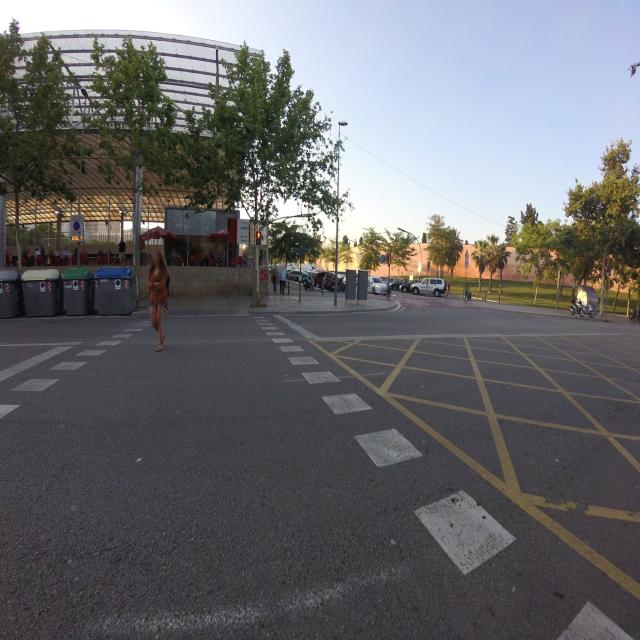forb_stopping: (73, 220, 80, 231)
